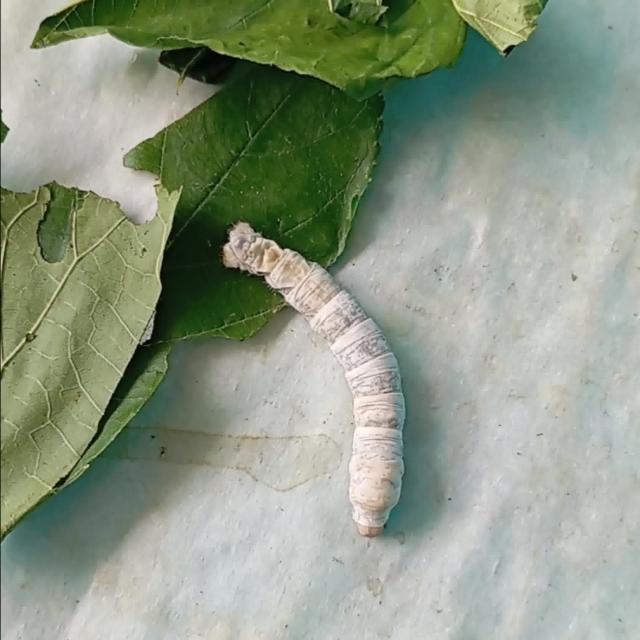Grasserie: (220, 210, 410, 547)
